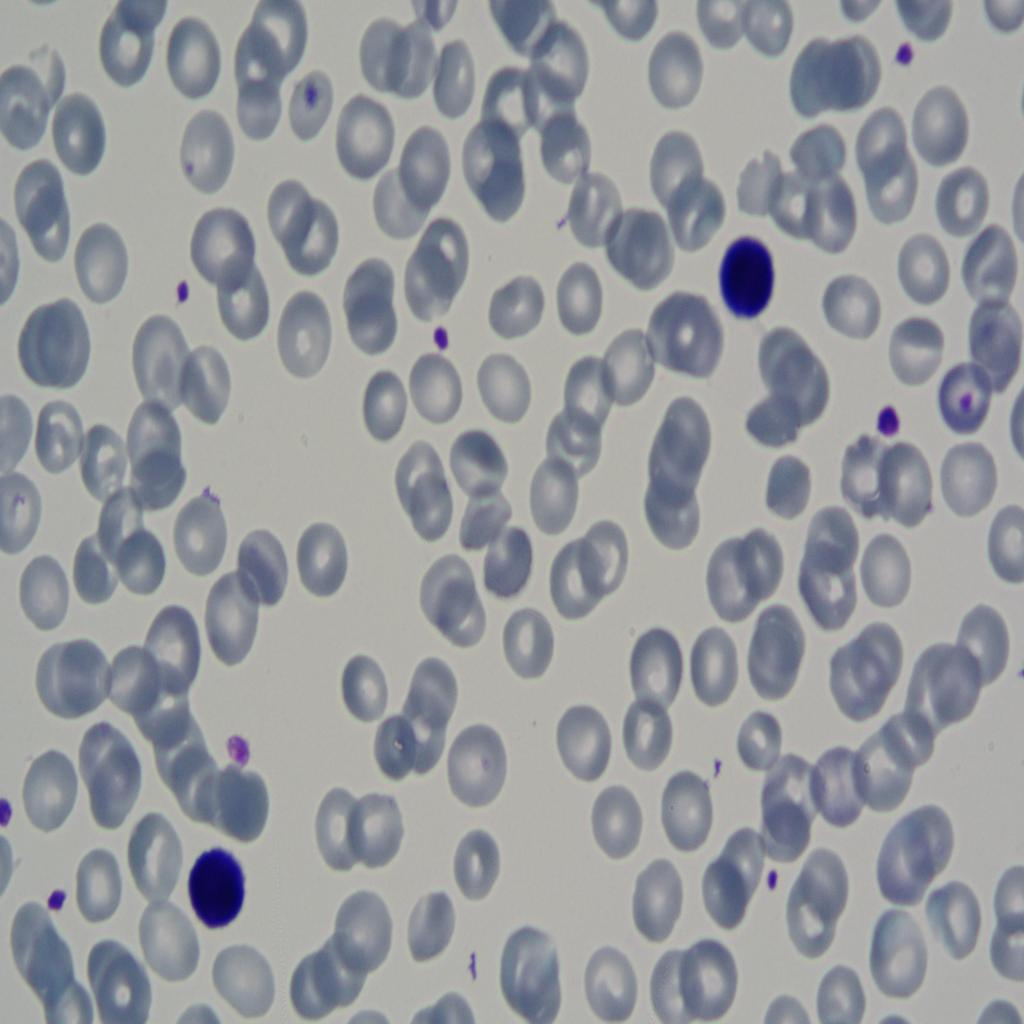Myeoblast: (176, 824, 249, 938), (711, 227, 778, 330)
Platelet: (890, 36, 934, 99), (422, 322, 469, 371), (163, 266, 213, 312), (40, 870, 72, 916), (874, 407, 906, 453), (228, 722, 254, 775), (961, 380, 984, 428), (0, 786, 19, 843), (707, 747, 727, 791), (300, 72, 320, 112), (764, 858, 781, 900), (181, 150, 194, 183)
